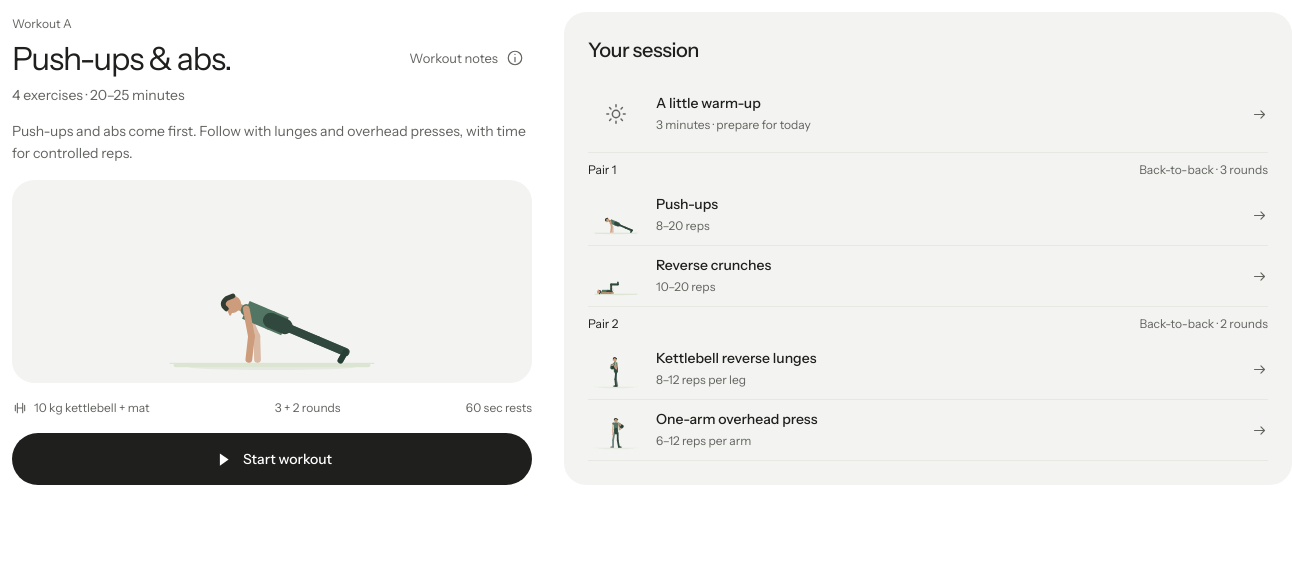
Test case: audio failure has a visible fallback while controls still work
Click the button "Start workout".
click(272, 459)  # box [12,433,532,485]
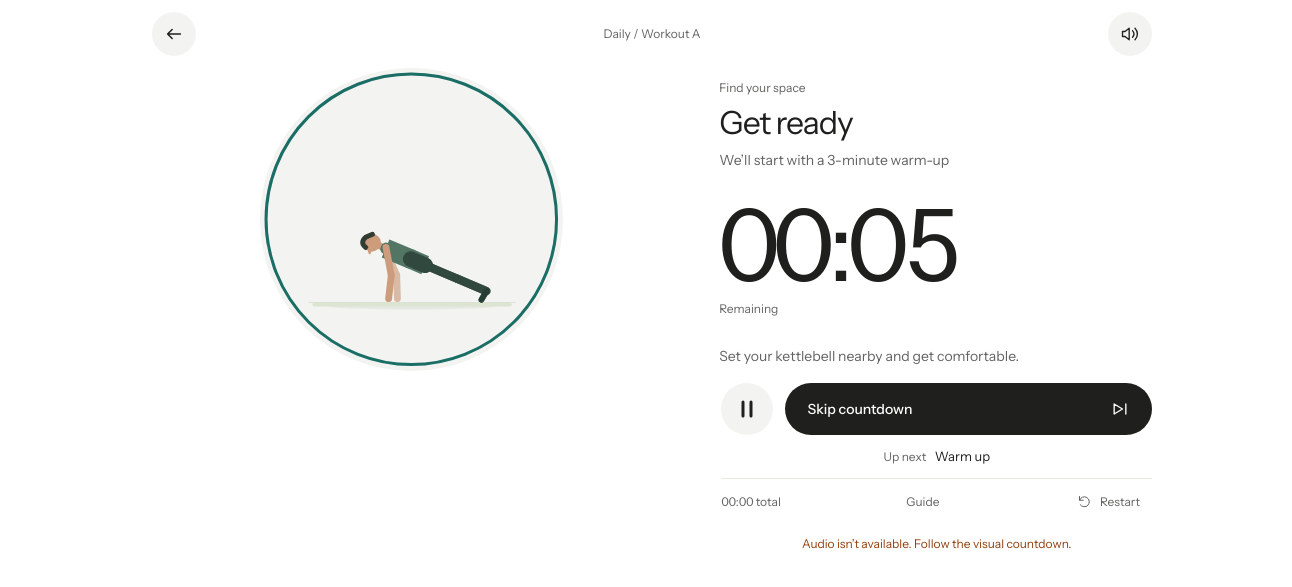
Now the message shows "Audio isn’t available", box [802,536,1071,551]
Click the button "Skip countdown".
click(860, 409)  # box [786,383,1152,435]
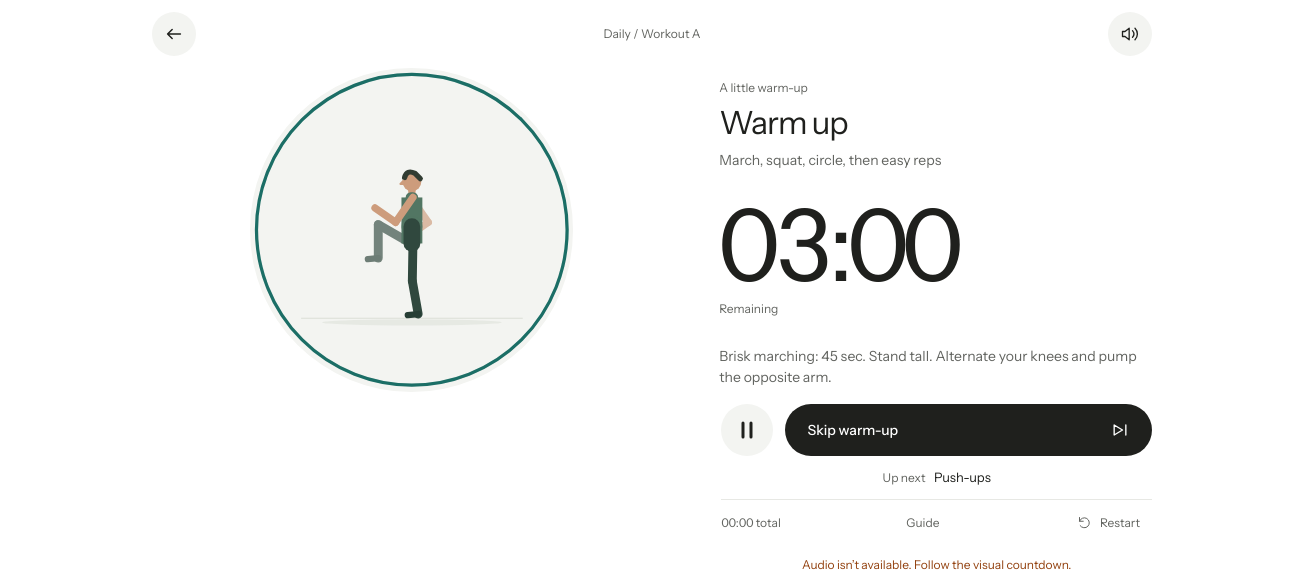
Now the heading reads "Warm up", box [719,103,848,142]
